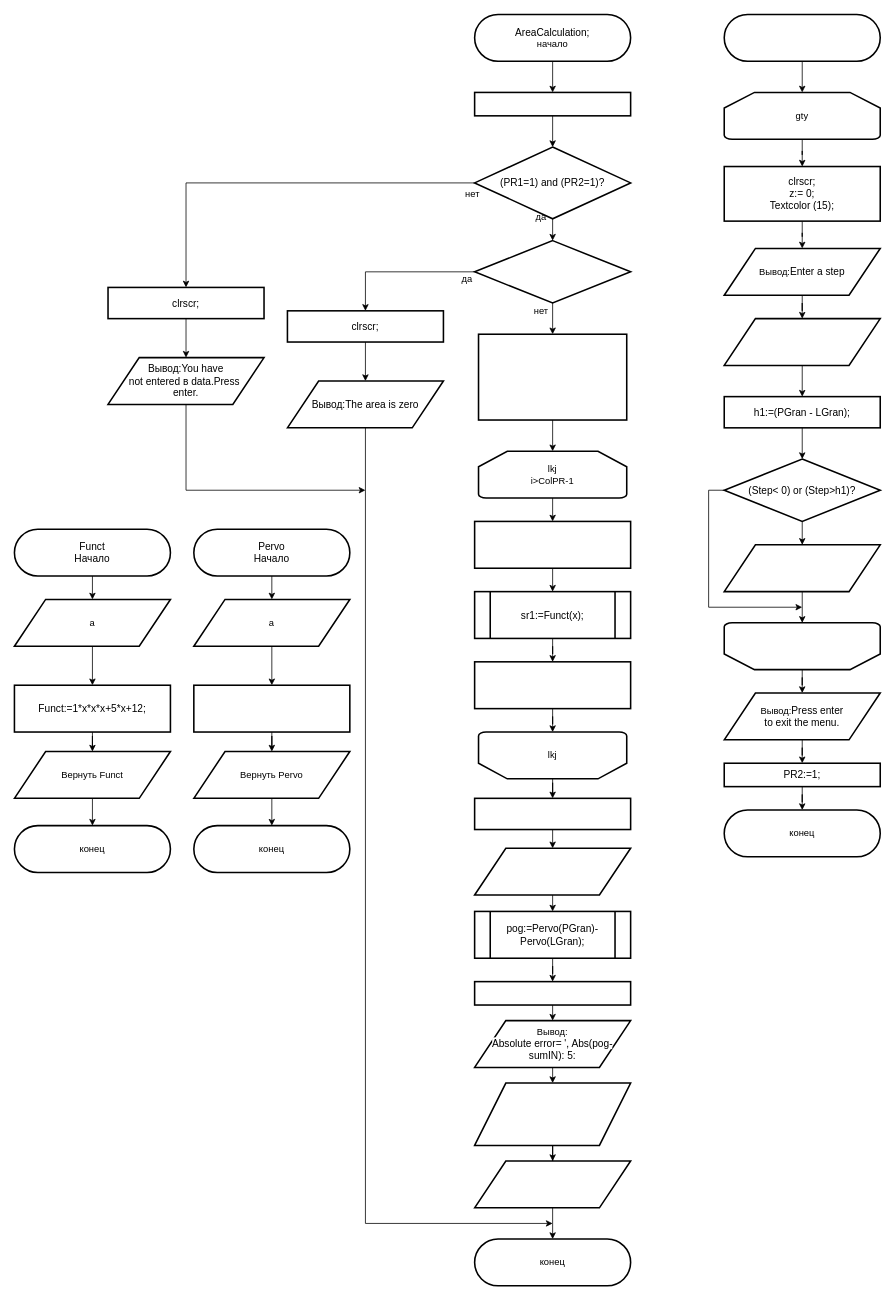
Some shapes in this 894 by 1299 pixel diagram are drawn without their labels. Each missing label, with the box of its shape:
(Step> 0) and (Step<=h1) gty: (723, 622, 881, 670)
h:= (PGran - LGran) /Step; ColPR:=Round(h); clrscr; f:=0; sumIN:=0; i:=1: (477, 333, 627, 420)
Inputstep Начало: (723, 13, 881, 62)
P1:=1;: (473, 980, 631, 1005)
P1=0?: (473, 239, 631, 303)
Pervo:=(x*x*x*x)/4+5*x*x/2+12*x;: (193, 684, 350, 732)
sumIN:=sumIN*Step;: (473, 797, 631, 830)
sumIN:=sumIN+sr1+Step/2; i:=i+1: (473, 661, 631, 709)
Textcolor (15);: (473, 91, 631, 116)
x:=LGran+i*Step;: (473, 520, 631, 569)
Ввод Step: (723, 317, 881, 366)
Вывод: 'Area is ', sumIN: 0:6: (473, 847, 631, 895)
Вывод: Incorrect input . Press enter and try again': (723, 544, 881, 592)
Вывод: Press enter to exit the menu: (473, 1160, 631, 1208)
Вывод: Relative error= ', ((Abs(pog-sumIN))/sumIN) *100: 3:6,'%: (473, 1082, 631, 1146)
